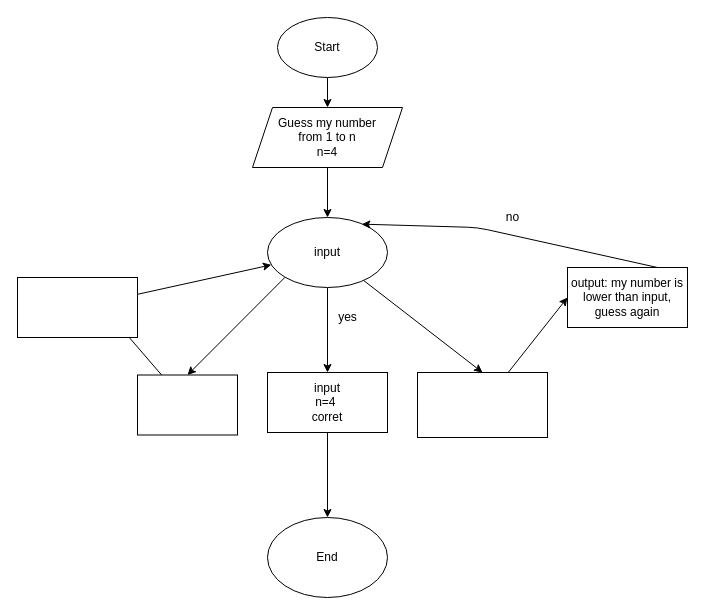
Image size: 705x615. Some labels were removed from this diagram. The centre of each missing label's shape, as x and y in pixels:
"input n = <4" goes at (187,404).
"input n = >4" goes at (482,405).
"output: my number is higher than input, guess again" goes at (77,307).
